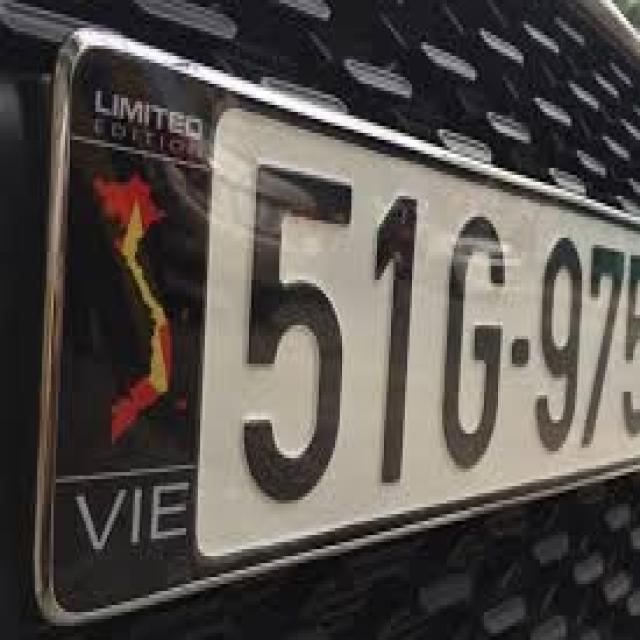a: (207, 98, 640, 539)
bien so: (201, 90, 640, 554)
